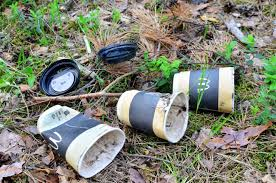cup: (38, 105, 126, 179), (116, 89, 190, 145), (172, 69, 237, 115)
